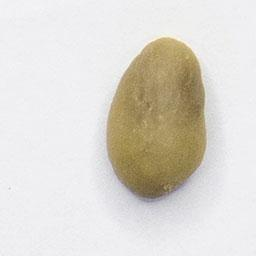longberry: (103, 34, 212, 203)
